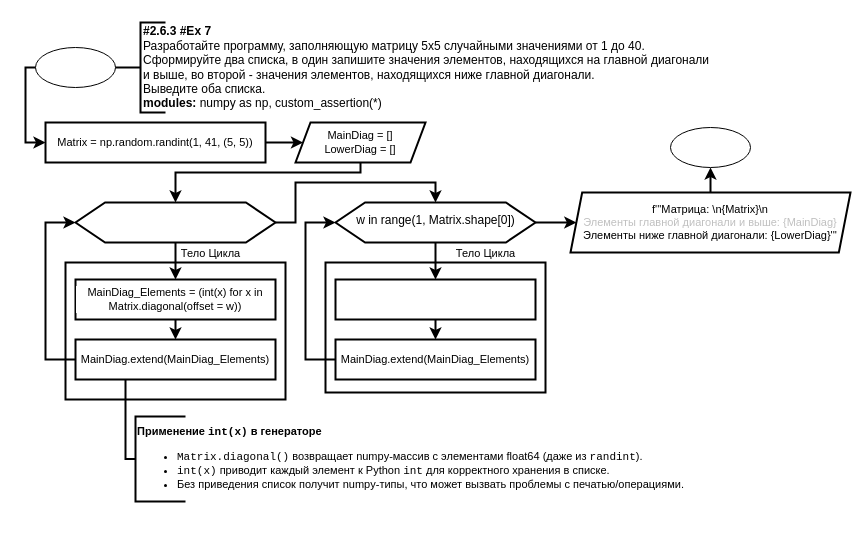
This 868x546 diagram has some shape labels left out. Each missing label, with the centre of its shape:
"MainDiag_Elements = (int(x) for x in Matrix.diagonal(offset = -w))" goes at point 435,299.
"w in range(Matrix.shape[0])" goes at point 175,222.
"Конец" goes at point 710,147.
"Начало" goes at point 75,67.
